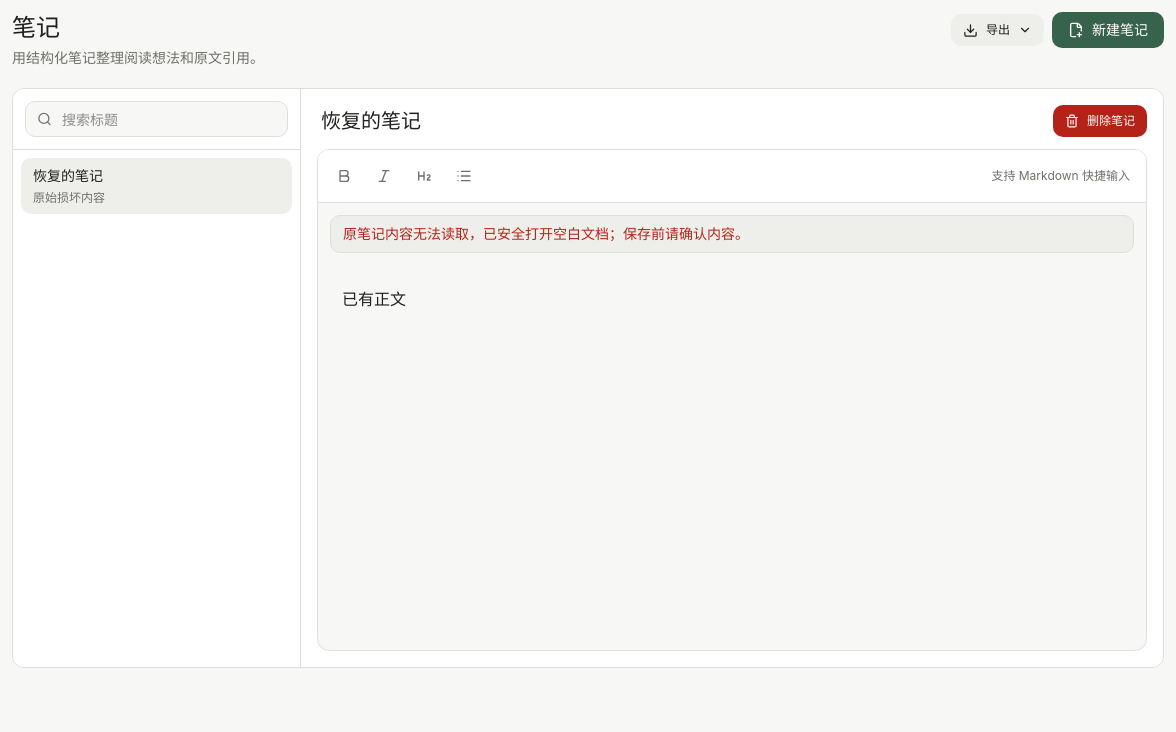
Scenario: NotesPage › does not overwrite recovered corrupt JSON when only the title changes
Clear the field named "笔记标题" at (673, 121), box [317,107,1029,135]
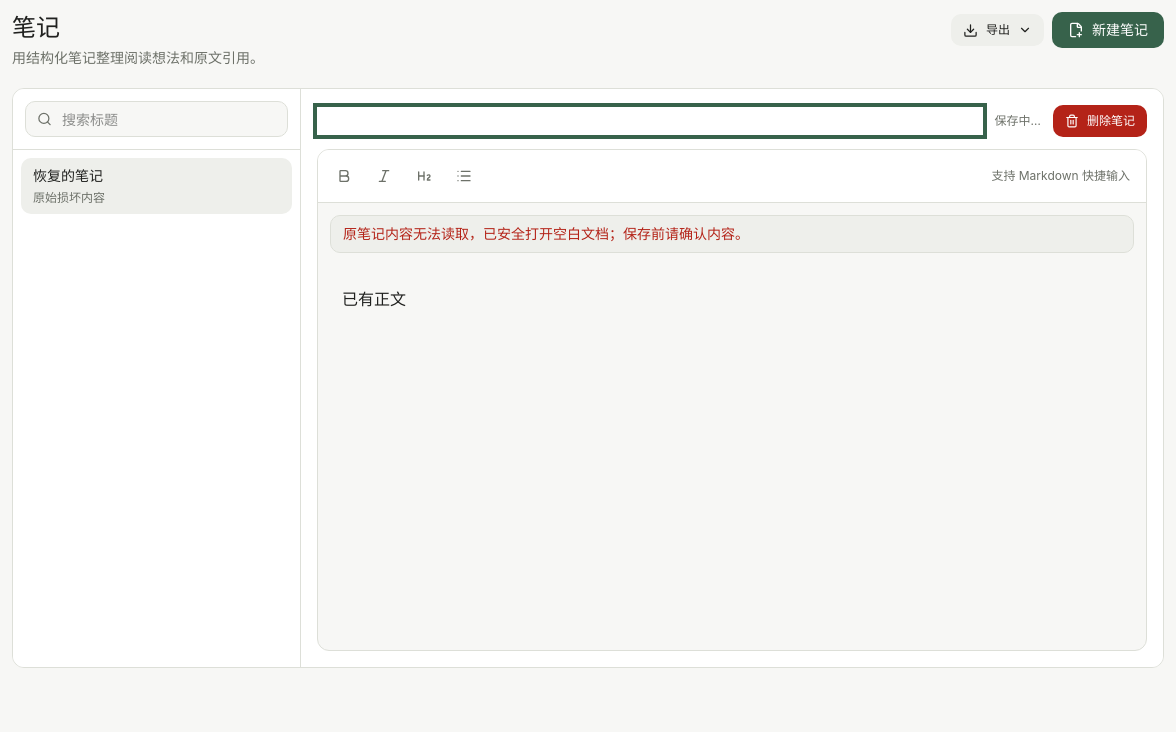
Type "只修改标题" into the field named "笔记标题".
click(650, 121); type("只修改标题")  # box [317,107,983,135]
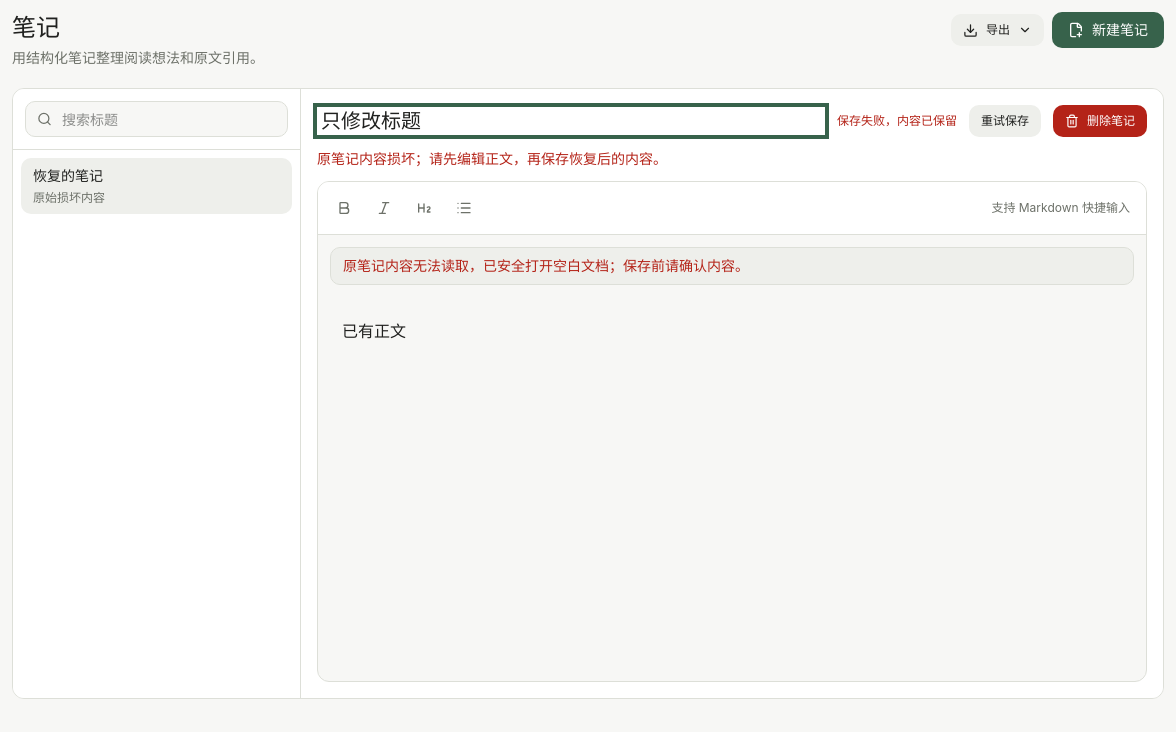
Result: the text "原笔记内容损坏；请先编辑正文，再保存恢复后的内容。" is shown at [317,150,667,167]
